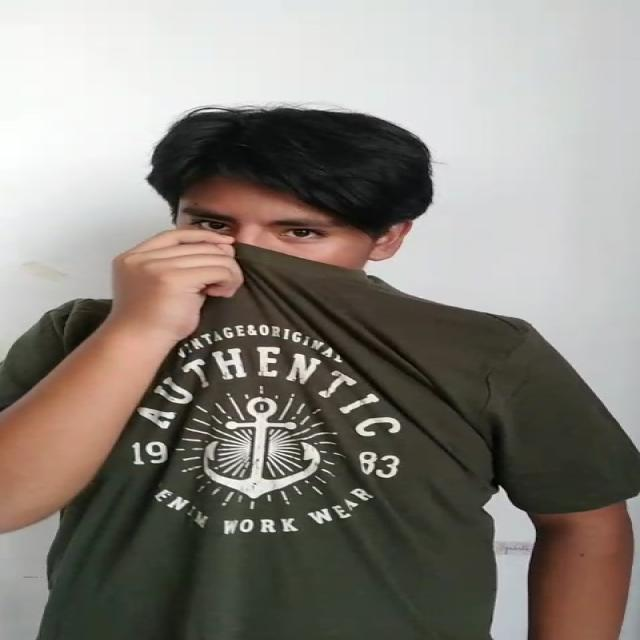8_ropa_rostro: (82, 234, 490, 361)
